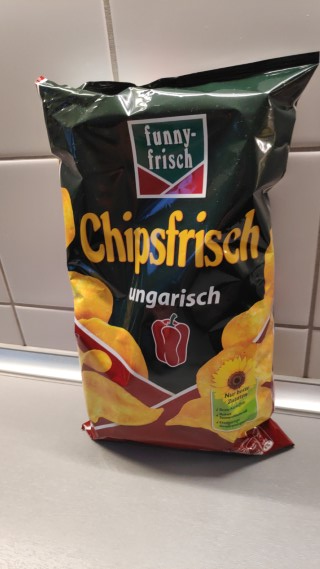chipsfrisch: (34, 51, 320, 460)
